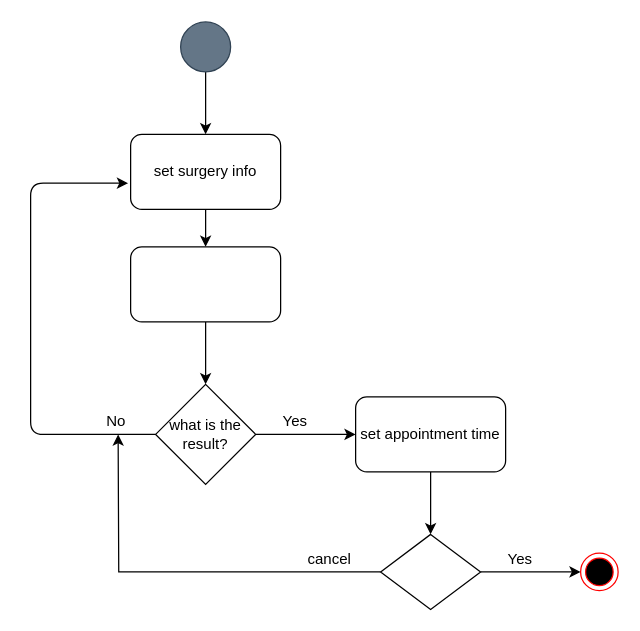
This 640x631 diagram has some shape labels left out. Here are the shapes that lost their labels. From the top down, the box of each, then its label:
(129, 246, 281, 322): request online visit
(379, 533, 481, 609): book app time
